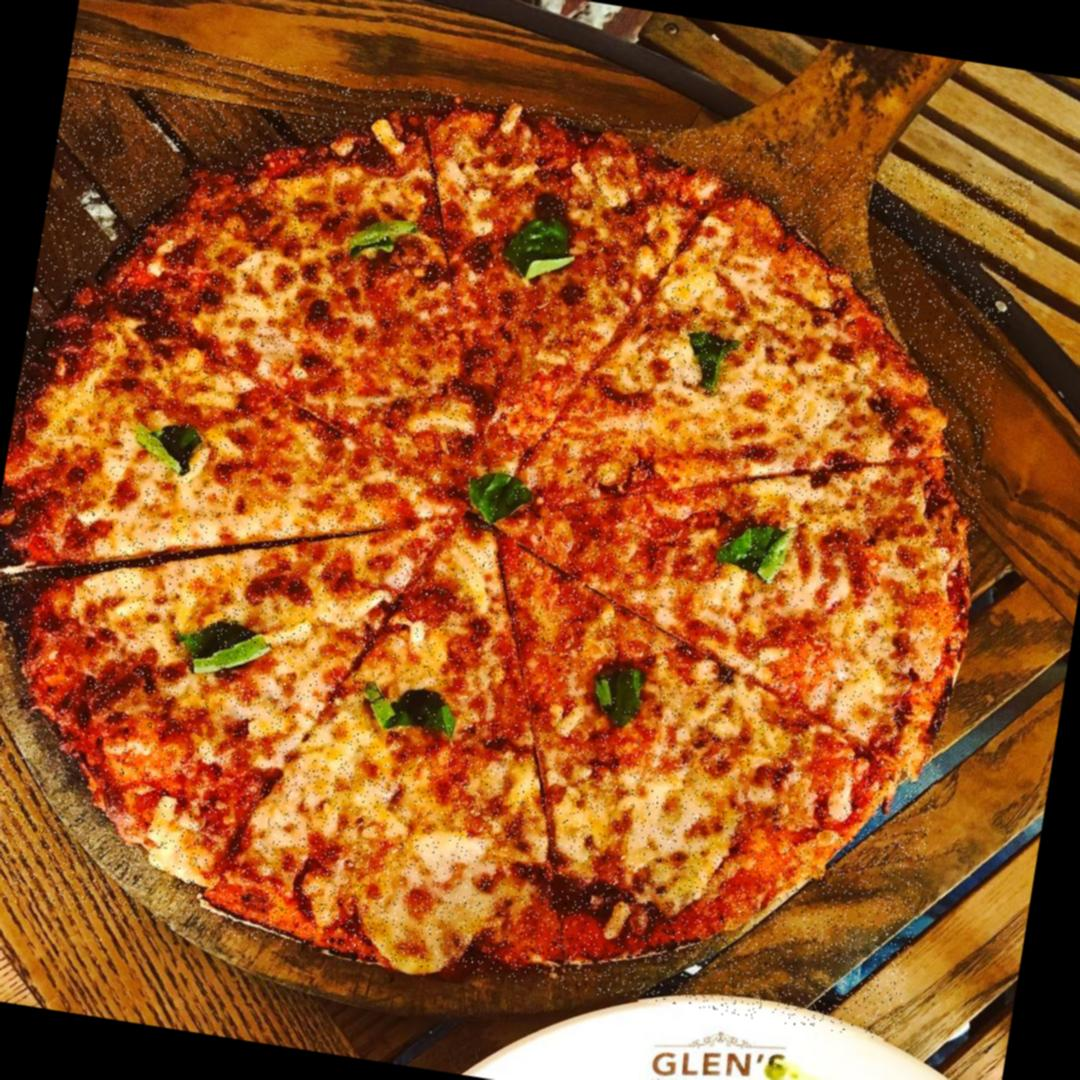Basil: (358, 676, 468, 746), (499, 204, 587, 291), (124, 412, 218, 491), (172, 614, 272, 684), (581, 654, 658, 738), (714, 507, 796, 584), (346, 206, 421, 270), (682, 325, 744, 398), (464, 468, 532, 528)
Pizza: (0, 29, 1032, 1042)
